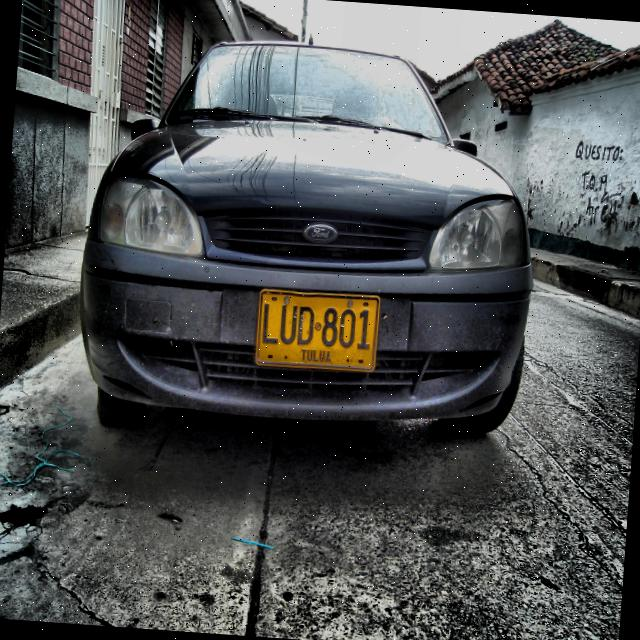0: (337, 307, 357, 350)
1: (355, 308, 373, 352)
8: (320, 305, 339, 349)
D: (296, 304, 314, 348)
L: (260, 302, 280, 346)
U: (278, 303, 298, 347)
